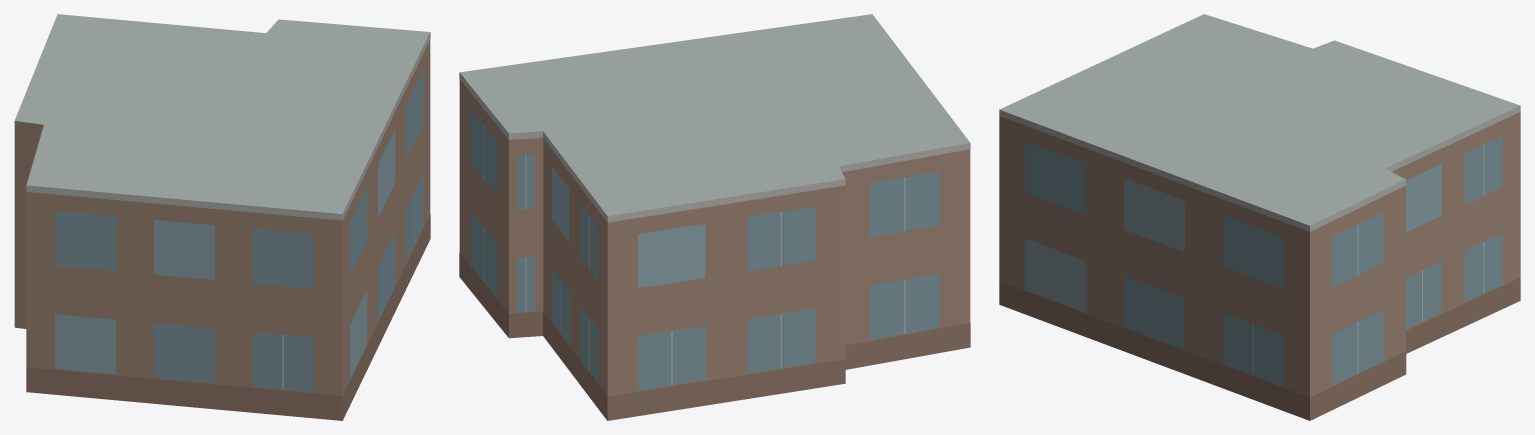
Rendered from survey-upis-32622487.glb.
3 renders of one model, left to right at view 1: azimuth 30°, elevation 25°; view 2: azimuth 150°, elevation 25°; view 3: azimuth 270°, elevation 25°, orthographic. The views are drawn at different scales.
Parts seen in each view (by area): view 1: survey-upis-32622487.tmp; view 2: survey-upis-32622487.tmp; view 3: survey-upis-32622487.tmp.
Part boxes in pixels (left/top/right/bottom): survey-upis-32622487.tmp: left=14, top=14, right=430, bottom=420; survey-upis-32622487.tmp: left=459, top=14, right=970, bottom=420; survey-upis-32622487.tmp: left=999, top=14, right=1520, bottom=420.
Bounding box in the file's own units: 18.18 × 7.8 × 18.9.
